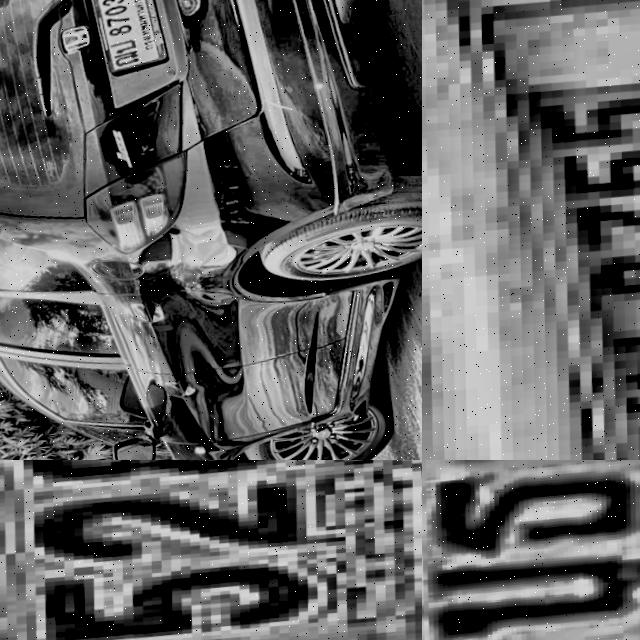license-plate: (444, 0, 640, 460), (0, 460, 422, 640), (422, 460, 640, 640), (86, 0, 168, 88)
